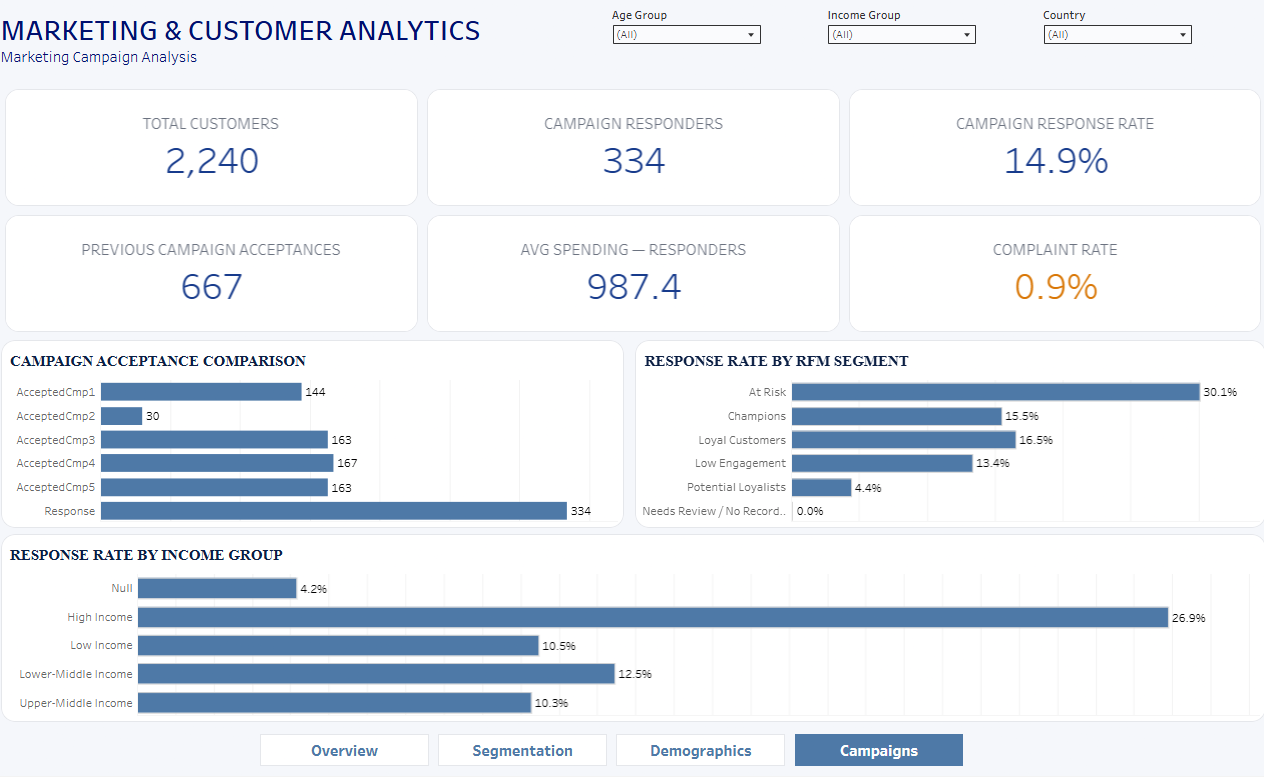

The dashboard page shown, as its layout file describes it:
{"tool":"tableau","page":{"name":"04_Marketing_Campaign_Analysis","canvas":[1366,830],"ordinal":3},"visuals":[{"type":"text","box":[8,8.6,1350,87.5]},{"type":"filter","title":"CH_Campaign_Acceptance_Comparison","param":"[federated.05ylme20dnpxct1gjvnq2020ji7q].[none:Age_Group:nk]","box":[660,9.7,160,61.6]},{"type":"filter","title":"CH_Campaign_Acceptance_Comparison","param":"[federated.05ylme20dnpxct1gjvnq2020ji7q].[none:Income_Group:nk]","box":[890,9.7,160,56.2]},{"type":"filter","title":"CH_Campaign_Acceptance_Comparison","param":"[federated.05ylme20dnpxct1gjvnq2020ji7q].[none:Country:nk]","box":[1120,9.7,160,62.7]},{"type":"worksheet","title":"KPI_Total_Customers","mark":"Automatic","box":[8,92,450,135]},{"type":"worksheet","title":"KPI_Campaign_Responders","mark":"Automatic","box":[458,92,450,135]},{"type":"worksheet","title":"KPI_Response_Rate","mark":"Automatic","box":[908,92,450,135]},{"type":"worksheet","title":"KPI_Previous_Campaign_Acceptances","mark":"Automatic","box":[8,226,450,135]},{"type":"worksheet","title":"KPI_Avg_Spending_Responders","mark":"Automatic","box":[458,226,450,135]},{"type":"worksheet","title":"KPI_Complaint_Rate","mark":"Automatic","box":[908,226,450,135]},{"type":"worksheet","title":"CH_Campaign_Acceptance_Comparison","mark":"Bar","box":[8,365,665,200]},{"type":"worksheet","title":"CH_Response_Rate_RFM","mark":"Bar","rows":["RFM_Segment"],"cols":["Response"],"box":[685,365,673,200]},{"type":"worksheet","title":"CH_Response_Rate_Income","mark":"Bar","rows":["Income_Group"],"cols":["Response"],"box":[8,572,1350,200]},{"type":"dashboard-object","box":[285,785,180,34]},{"type":"dashboard-object","box":[475,785,180,34]},{"type":"dashboard-object","box":[665,785,180,34]},{"type":"dashboard-object","box":[855,785,180,34]}]}

Visuals, with their boxes in screenshot pixels (x1, y1, x2, y2), scaled from the page's 1366x830 canvas onto the 1264x777 screenshot:
text: bbox(7, 8, 1257, 90)
"CH_Campaign_Acceptance_Comparison" filter: bbox(611, 9, 759, 67)
"CH_Campaign_Acceptance_Comparison" filter: bbox(824, 9, 972, 62)
"CH_Campaign_Acceptance_Comparison" filter: bbox(1036, 9, 1184, 68)
"KPI_Total_Customers" worksheet: bbox(7, 86, 424, 213)
"KPI_Campaign_Responders" worksheet: bbox(424, 86, 840, 213)
"KPI_Response_Rate" worksheet: bbox(840, 86, 1257, 213)
"KPI_Previous_Campaign_Acceptances" worksheet: bbox(7, 212, 424, 338)
"KPI_Avg_Spending_Responders" worksheet: bbox(424, 212, 840, 338)
"KPI_Complaint_Rate" worksheet: bbox(840, 212, 1257, 338)
"CH_Campaign_Acceptance_Comparison" worksheet (Bar marks): bbox(7, 342, 623, 529)
"CH_Response_Rate_RFM" worksheet (Bar marks): bbox(634, 342, 1257, 529)
"CH_Response_Rate_Income" worksheet (Bar marks): bbox(7, 535, 1257, 723)
dashboard-object: bbox(264, 735, 430, 767)
dashboard-object: bbox(440, 735, 606, 767)
dashboard-object: bbox(615, 735, 782, 767)
dashboard-object: bbox(791, 735, 958, 767)
